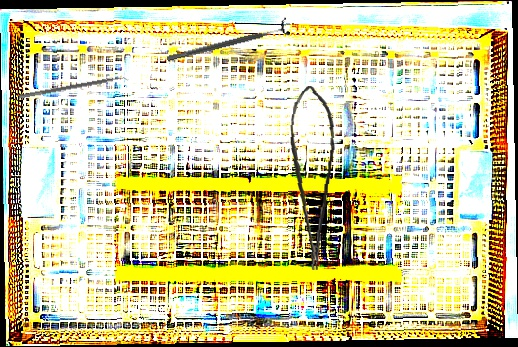Fixation Ring: (164, 17, 291, 68)
Micro Scissor: (277, 84, 340, 271)
Spatula Surgical: (18, 73, 130, 104)
